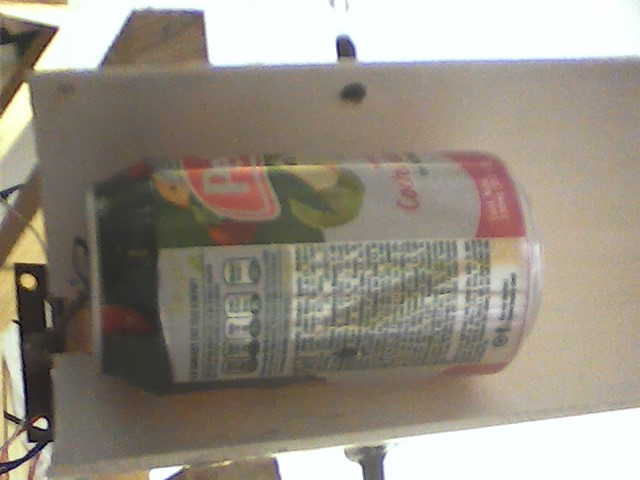lata: (79, 148, 549, 398)
